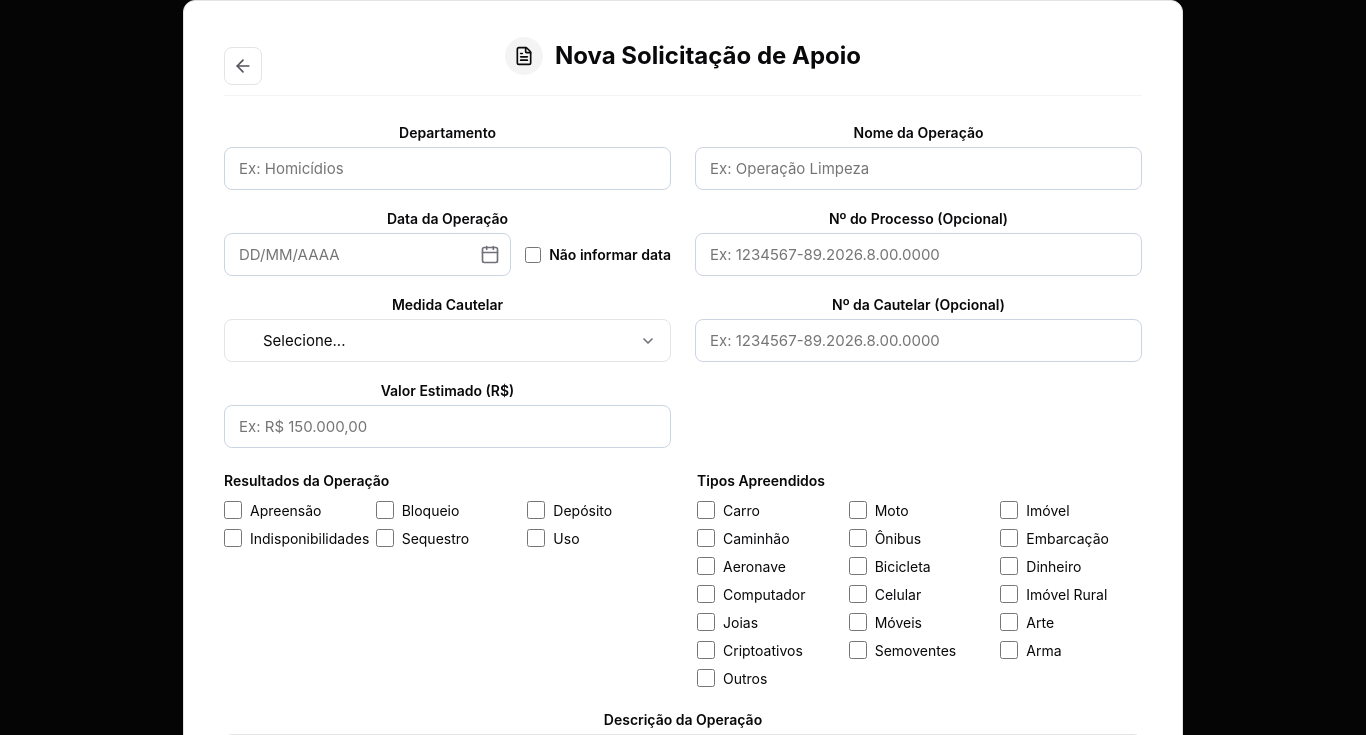
it: SolicitacaoContainer Component › deve permitir digitar a data da operação manualmente com máscara DD/MM/AAAA
The image size is (1366, 735).
Note: Digitação de 8 dígitos numéricos simulando o usuário digitando 25102026
Type "25102026" into the field named "data_operacao" at x=368, y=254, box [224,233,511,276]
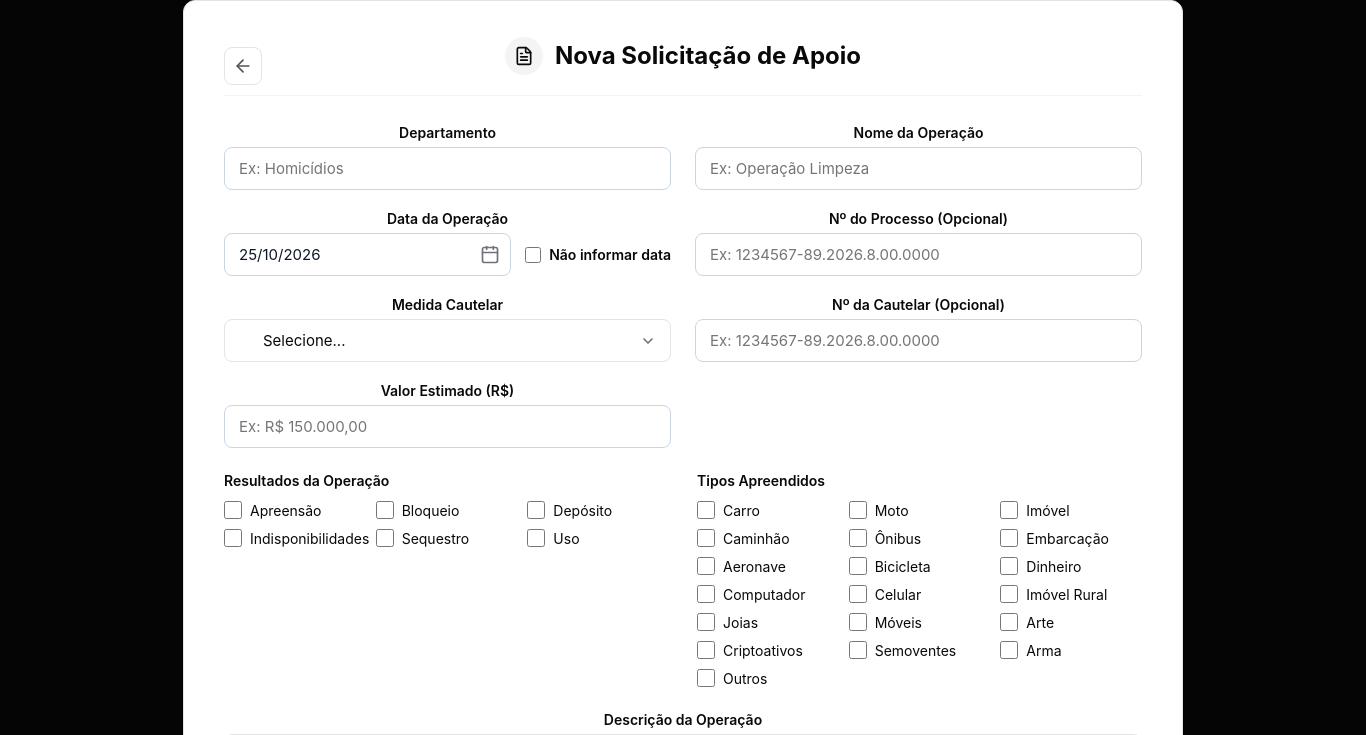
Result: the field named "data_operacao" holds "25/10/2026"
Note: Digitação parcial simulando 2 dígitos
Replace the text in the field named "data_operacao" with "25" at x=368, y=254, box [224,233,511,276]
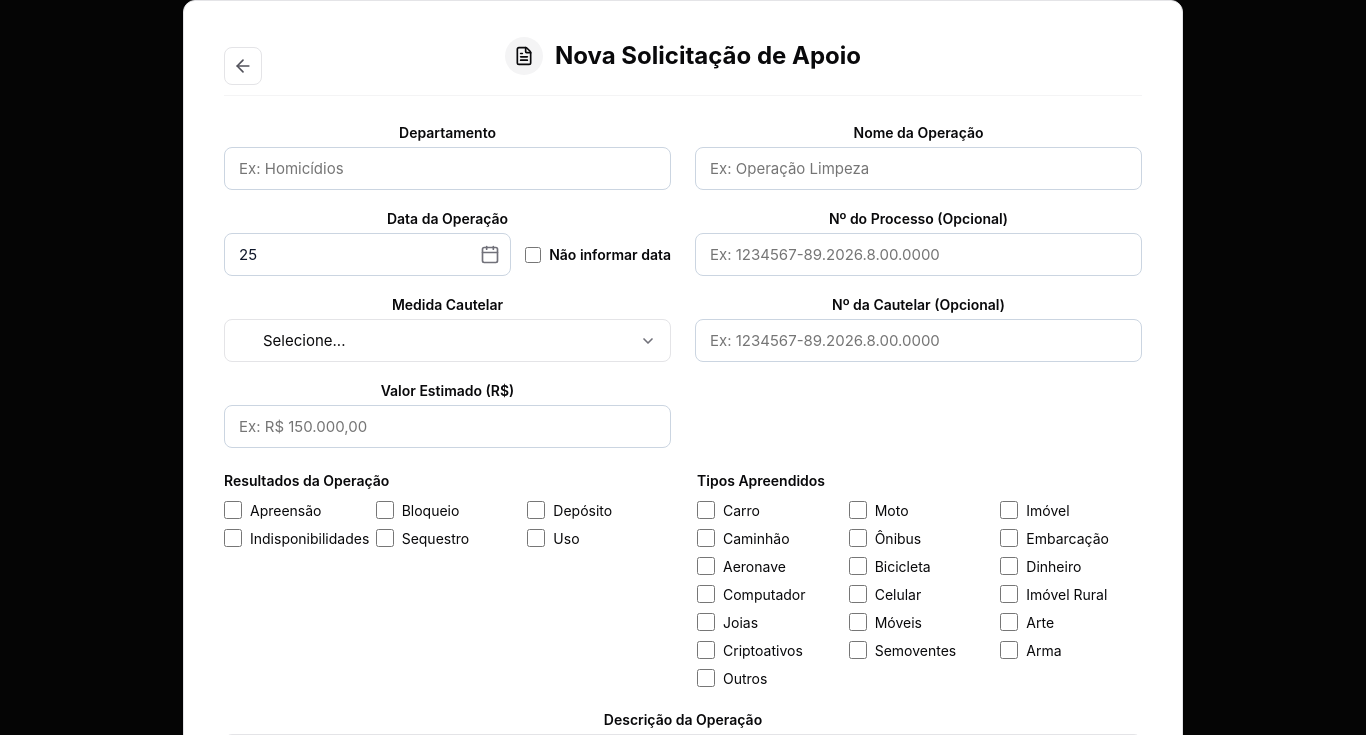
Note: Digitação parcial simulando 4 dígitos
Replace the text in the field named "data_operacao" with "2510" at x=368, y=254, box [224,233,511,276]
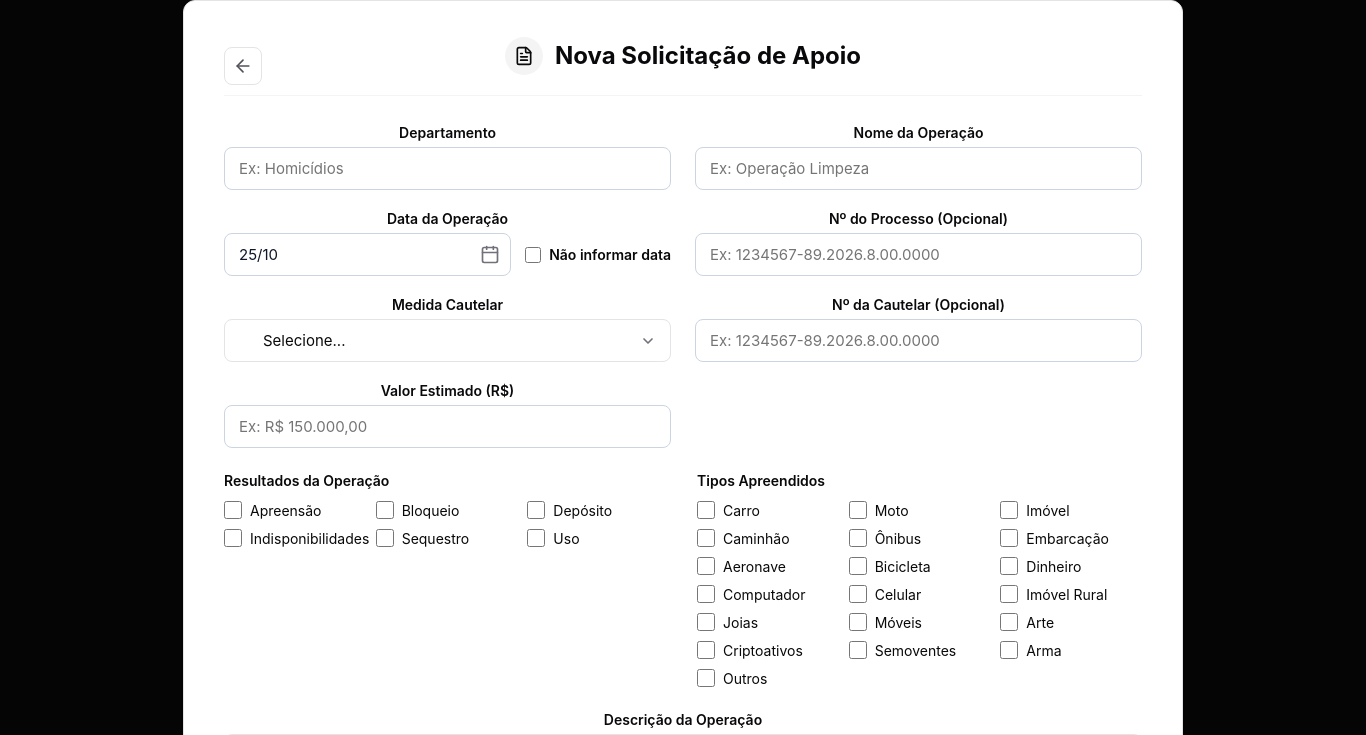
Result: the field named "data_operacao" holds "25/10" at [224,233,511,276]
